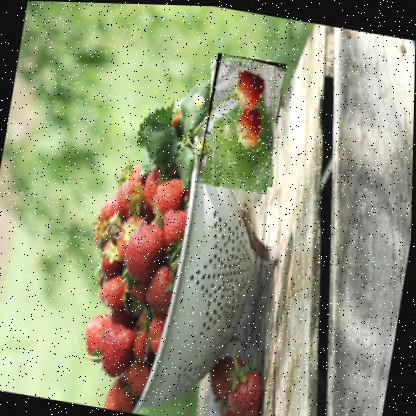strawberry: (197, 48, 289, 192)
